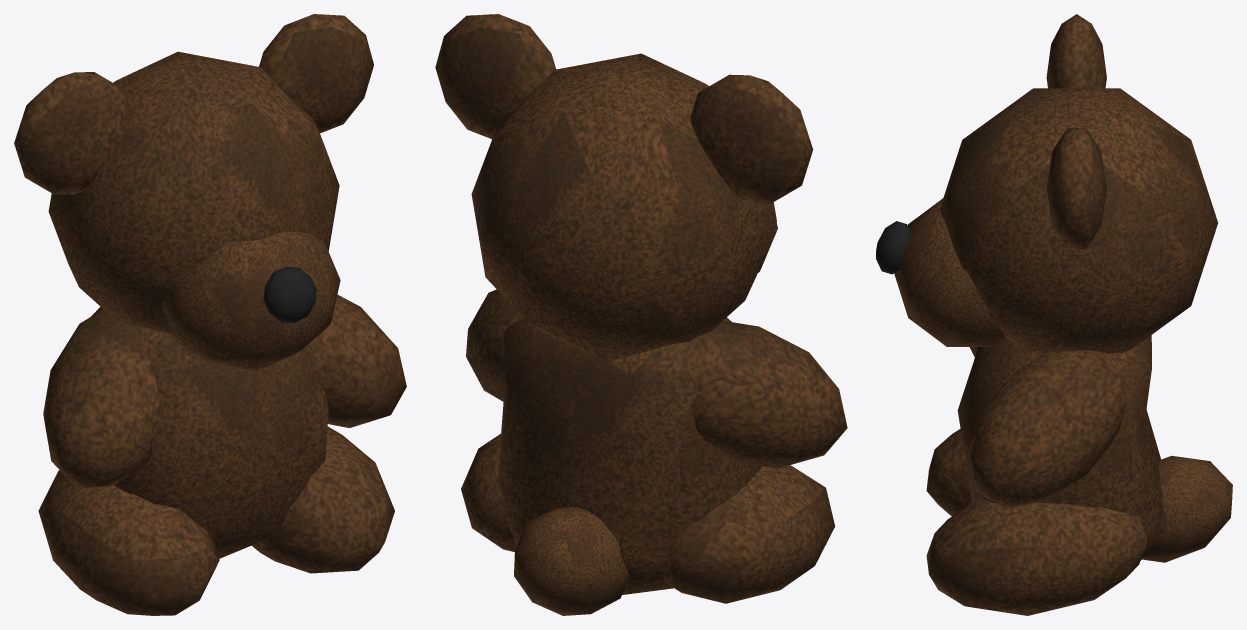
The model's file is Teddybear.fbx.
3 renders of one model, left to right at view 1: azimuth 30°, elevation 25°; view 2: azimuth 150°, elevation 25°; view 3: azimuth 270°, elevation 25°, orthographic. The views are drawn at different scales.
Visible parts, largest first — view 1: Teddybear, Teddybear.003, Teddybear.007, Teddybear.006, Teddybear.002, Teddybear.001, Teddybear.005; view 2: Teddybear, Teddybear.003, Teddybear.002, Teddybear.006, Teddybear.007, Teddybear.004; view 3: Teddybear, Teddybear.007, Teddybear.006, Teddybear.003, Teddybear.002, Teddybear.001, Teddybear.004, Teddybear.005.
Part boxes in pixels (x1,y1,x2,y2): Teddybear: [48, 51, 339, 334]; Teddybear.003: [91, 307, 328, 558]; Teddybear.007: [38, 426, 394, 615]; Teddybear.006: [43, 294, 406, 488]; Teddybear.002: [14, 14, 373, 194]; Teddybear.001: [162, 231, 340, 370]; Teddybear.005: [263, 266, 316, 323]; Teddybear: [471, 53, 776, 361]; Teddybear.003: [498, 317, 761, 594]; Teddybear.002: [435, 14, 813, 203]; Teddybear.006: [466, 289, 847, 468]; Teddybear.007: [461, 434, 835, 603]; Teddybear.004: [514, 507, 628, 615]; Teddybear: [940, 88, 1217, 353]; Teddybear.007: [926, 429, 1147, 615]; Teddybear.006: [968, 347, 1126, 508]; Teddybear.003: [957, 335, 1167, 560]; Teddybear.002: [1046, 14, 1106, 249]; Teddybear.001: [894, 198, 1005, 346]; Teddybear.004: [1142, 455, 1232, 562]; Teddybear.005: [876, 221, 910, 274].
Bounding box in the file's own units: 0.3711 × 0.5225 × 0.3443.
2 materials, 2 textured.
